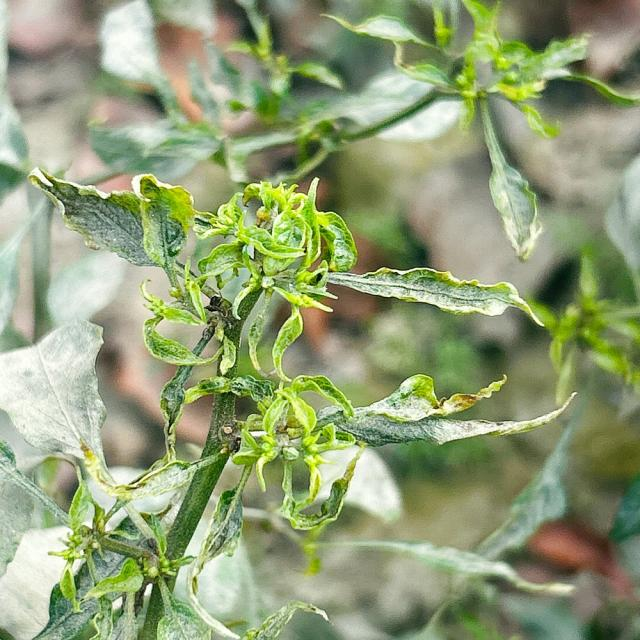Chilli_Leaf_Curl: (2, 165, 577, 638), (318, 0, 638, 262), (192, 176, 358, 314), (313, 371, 577, 449), (230, 382, 363, 529), (26, 165, 196, 270), (321, 265, 546, 328)
